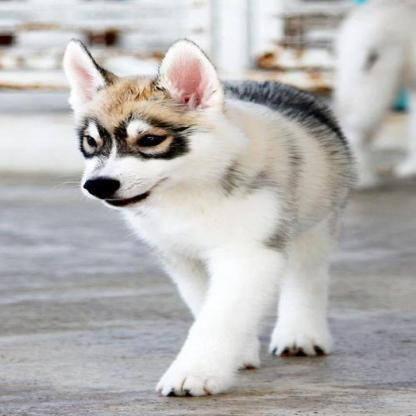dog: (60, 38, 356, 399)
